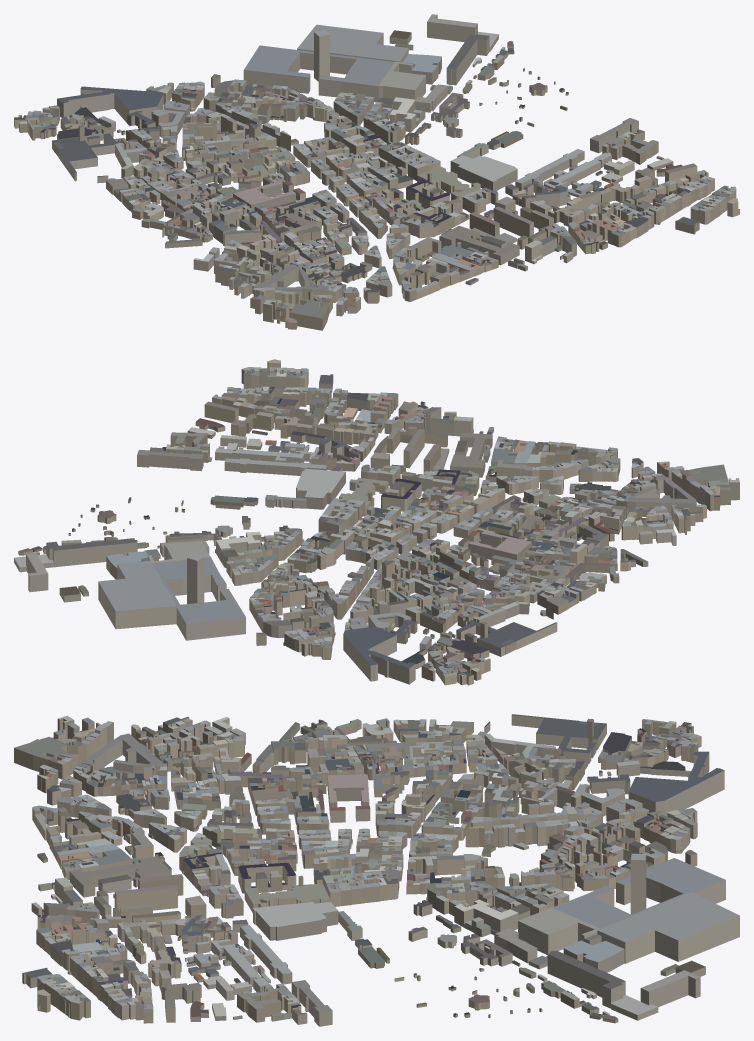
3 views of the same model, one above another, from view 1: azimuth 30°, elevation 25°; view 2: azimuth 150°, elevation 25°; view 3: azimuth 270°, elevation 25° (orthographic). The views are drawn at different scales.
Parts seen in each view (by area): view 1: tuile; view 2: tuile; view 3: tuile.
Part boxes in pixels (x1,y1,x2,y2): tuile: (14, 14, 739, 330); tuile: (14, 359, 739, 685); tuile: (14, 714, 739, 1026).
Size of the model in its own units: 1035 by 100 by 1102.
